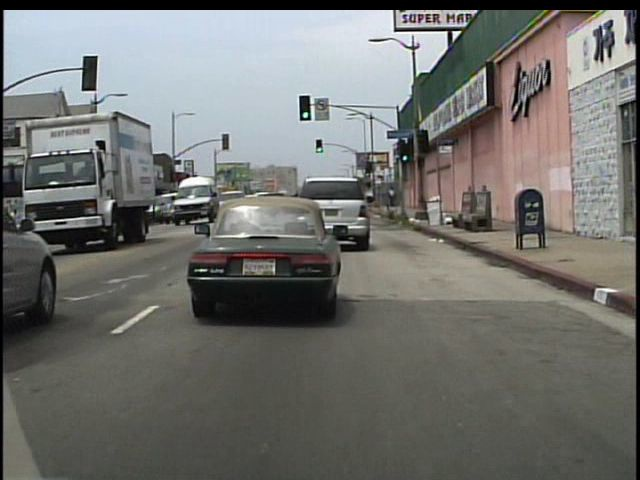person: (390, 185, 399, 207)
